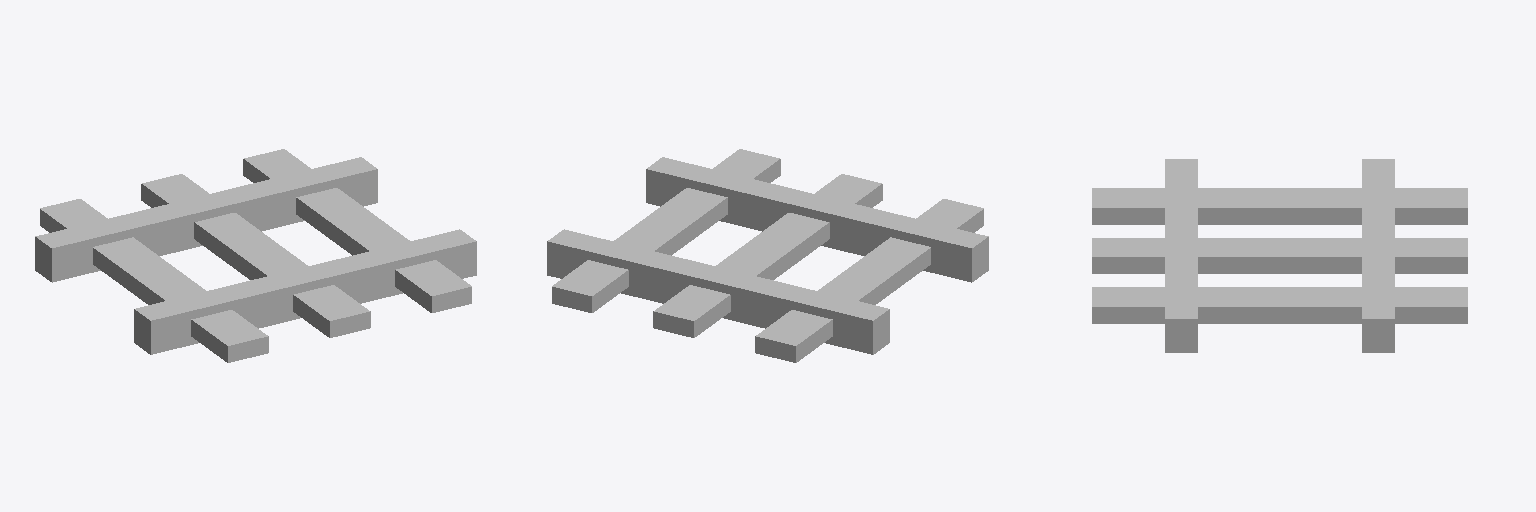
Rendered from track_segment.obj.
3 views of the same model, side by side, from view 1: azimuth 30°, elevation 25°; view 2: azimuth 150°, elevation 25°; view 3: azimuth 270°, elevation 25° (orthographic).
Visible parts, largest first — view 1: Cube; view 2: Cube; view 3: Cube.
Boxes of the visible parts, <box> form: Cube: <box>35,149,476,362</box>; Cube: <box>547,149,988,362</box>; Cube: <box>1092,159,1467,352</box>.
Size of the model in its own units: 2 by 0.2 by 2.